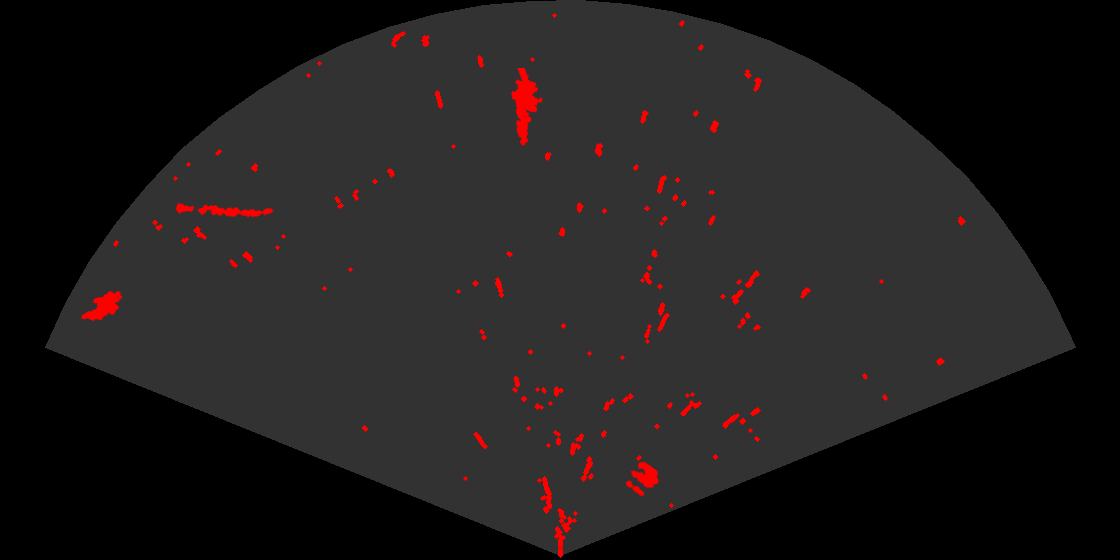AUV: (79, 289, 124, 323)
ball: (624, 460, 660, 498)
chain: (173, 202, 274, 219)
frogman: (510, 68, 544, 148)
